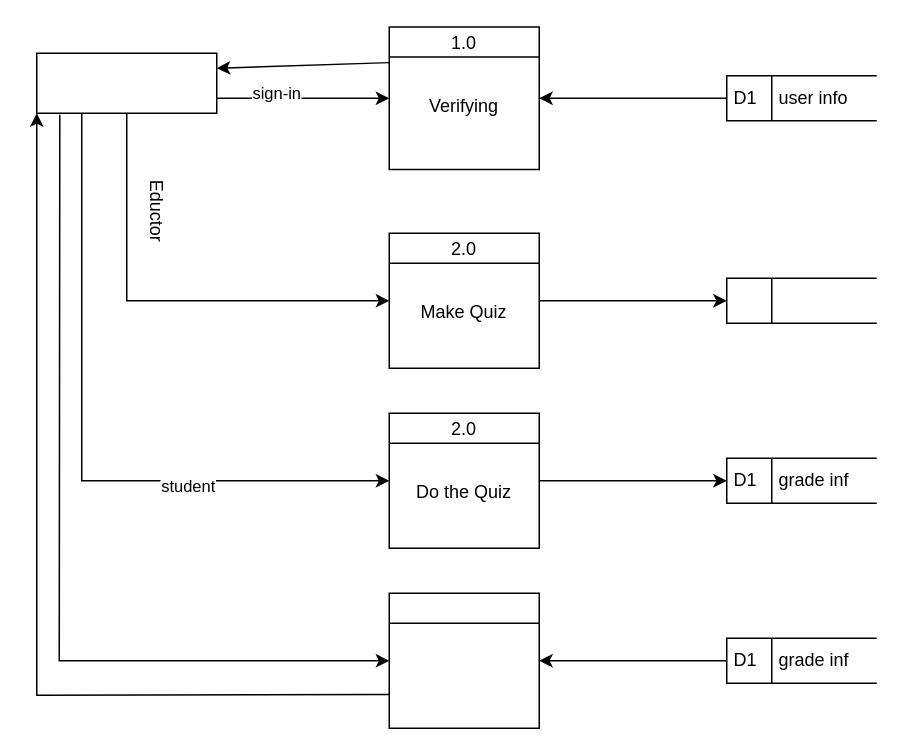
The diagram is 903 pixels wide and 755 high, and some of its shapes have lost their labels. Here are the shapes that lost their labels. From the top down, the centre of each, then its label:
At [126,82]: "user (student&educator)".
At [801,300]: "D1 Quiz info".
At [463,660]: "2.0 Show Quizzes grades".
